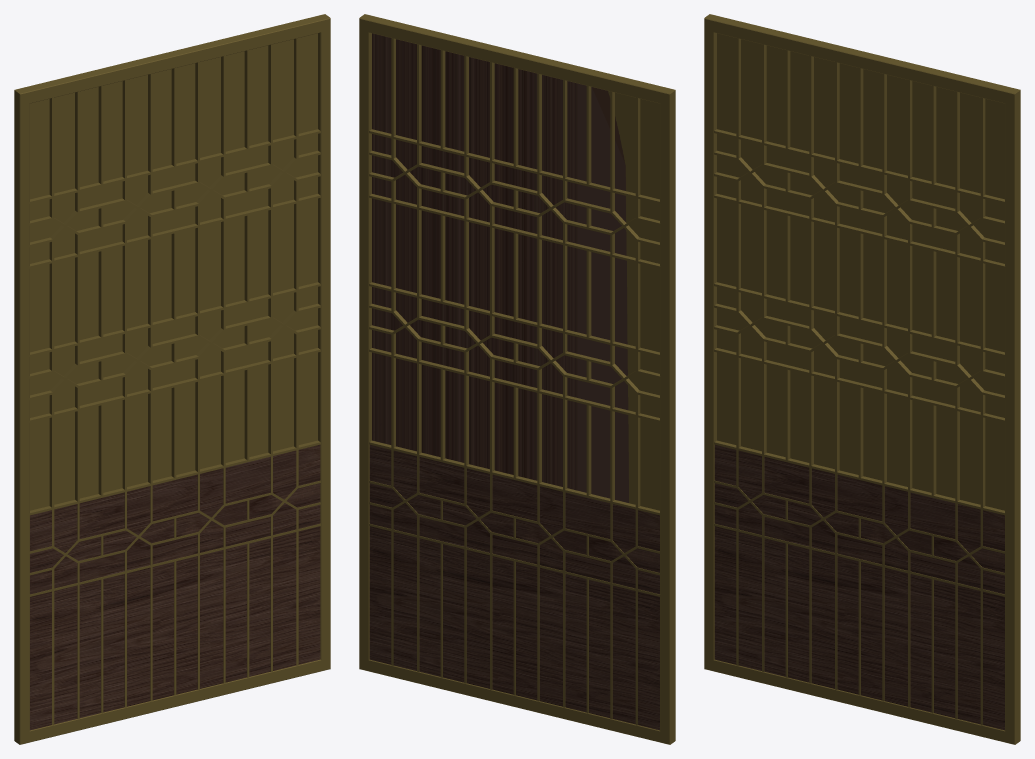
The model's file is Restaurant_Divider.glb.
3 renders of one model, left to right at view 1: azimuth 30°, elevation 25°; view 2: azimuth 150°, elevation 25°; view 3: azimuth 330°, elevation 25°, orthographic.
Visible parts, largest first — view 1: Restaurant_Divider_Mirror, Restaurant_Divider, Restaurant_Divider_BottomDetail; view 2: Restaurant_Divider_Mirror, Restaurant_Divider, Restaurant_Divider_BottomDetail; view 3: Restaurant_Divider_Mirror, Restaurant_Divider, Restaurant_Divider_BottomDetail.
Boxes of the visible parts, box(x1,y1,x2,y2) form: Restaurant_Divider_Mirror: box(30, 33, 317, 510); Restaurant_Divider: box(14, 14, 330, 744); Restaurant_Divider_BottomDetail: box(30, 444, 320, 730); Restaurant_Divider_Mirror: box(372, 33, 659, 510); Restaurant_Divider: box(359, 14, 675, 744); Restaurant_Divider_BottomDetail: box(369, 444, 659, 730); Restaurant_Divider_Mirror: box(717, 33, 1004, 510); Restaurant_Divider: box(704, 14, 1020, 744); Restaurant_Divider_BottomDetail: box(714, 444, 1004, 730).
Bounding box in the file's own units: 1.5 × 3 × 0.05.
Materials: 2 (2 with a texture image).
